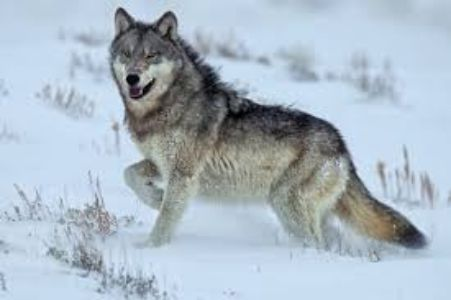wolf: (98, 1, 438, 279)
